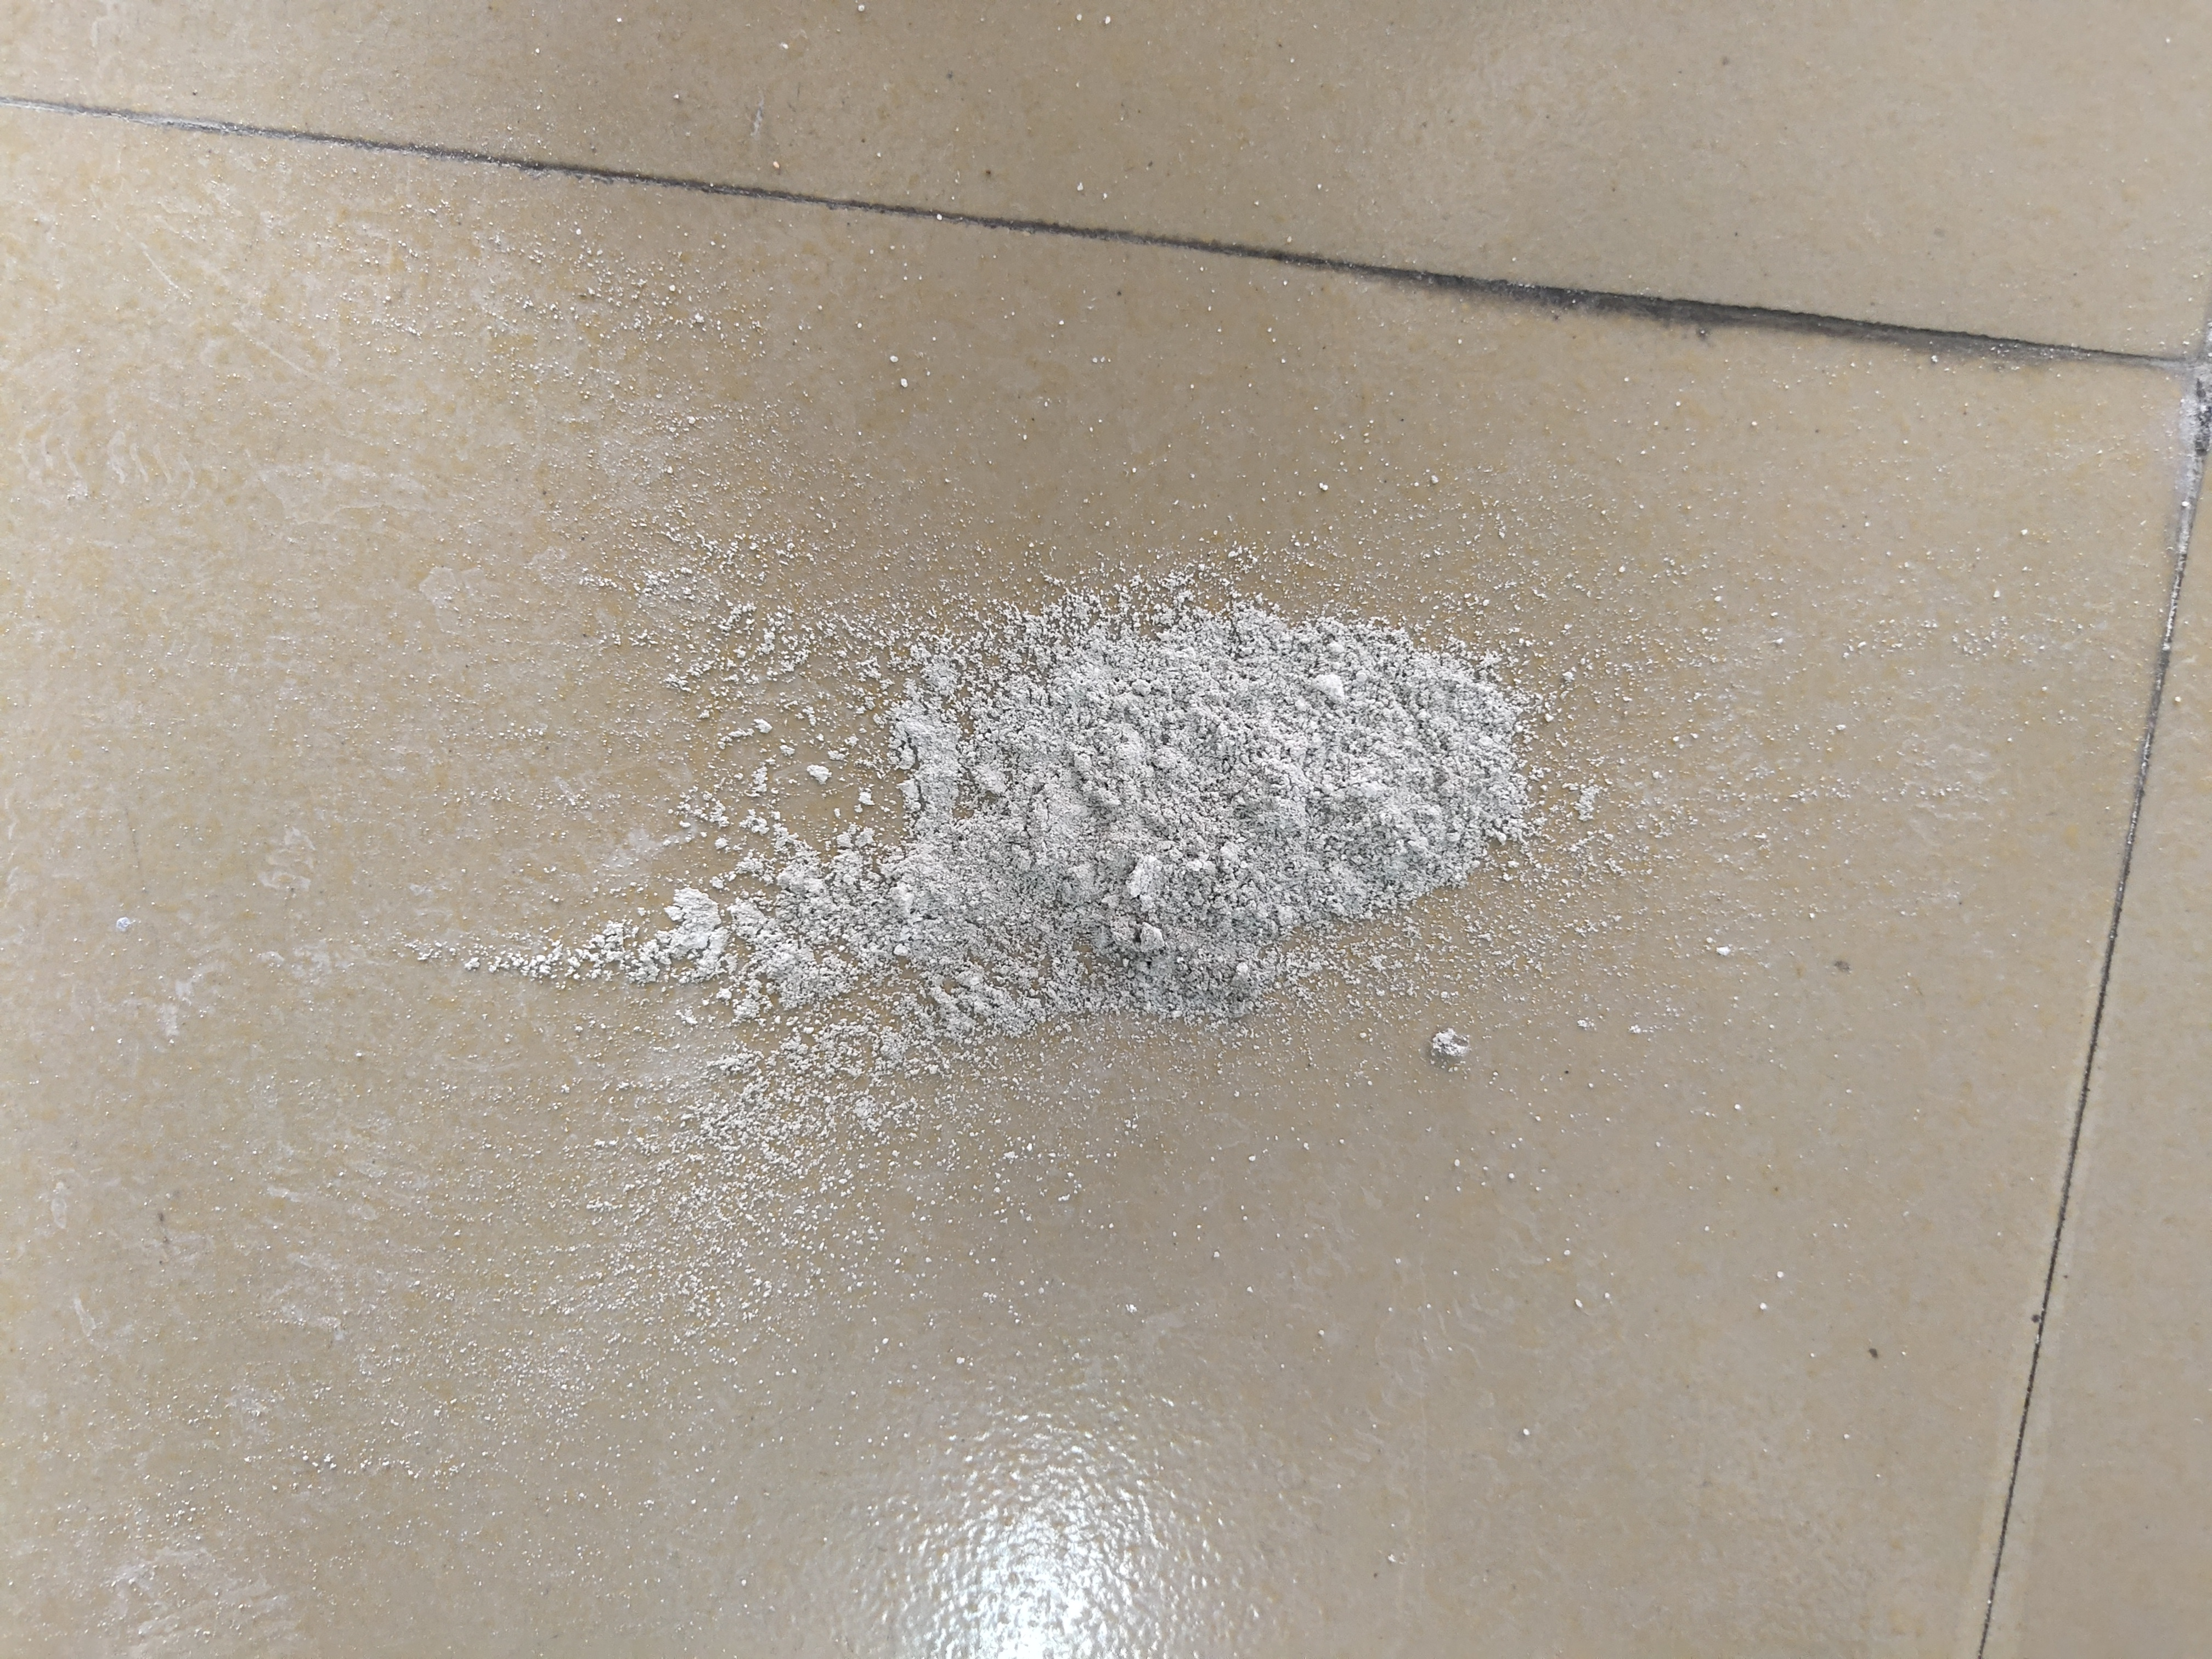ash pile: (397, 497, 1611, 1337)
reflection: (904, 1406, 1191, 1659)
